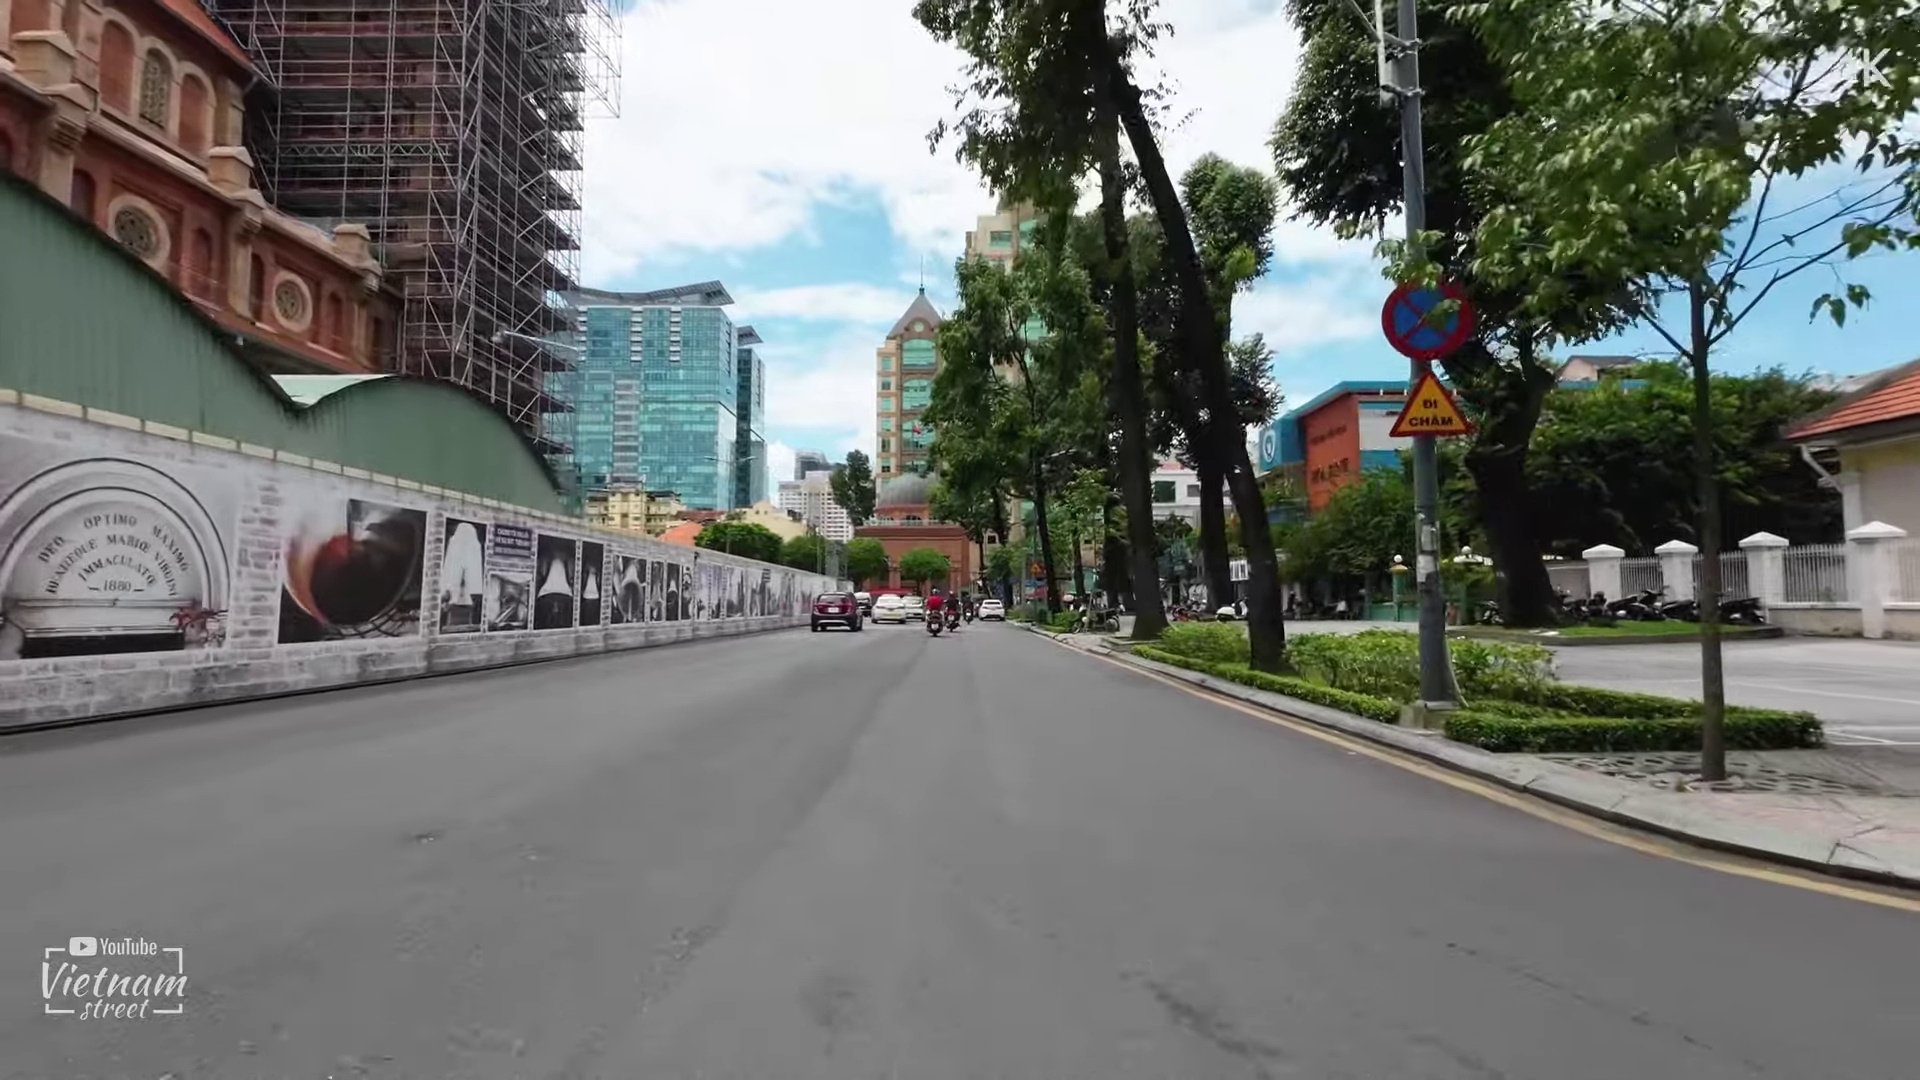di_cham: (1385, 368, 1480, 440)
